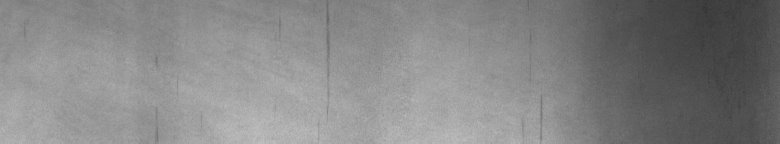ka: (279, 4, 330, 96)
